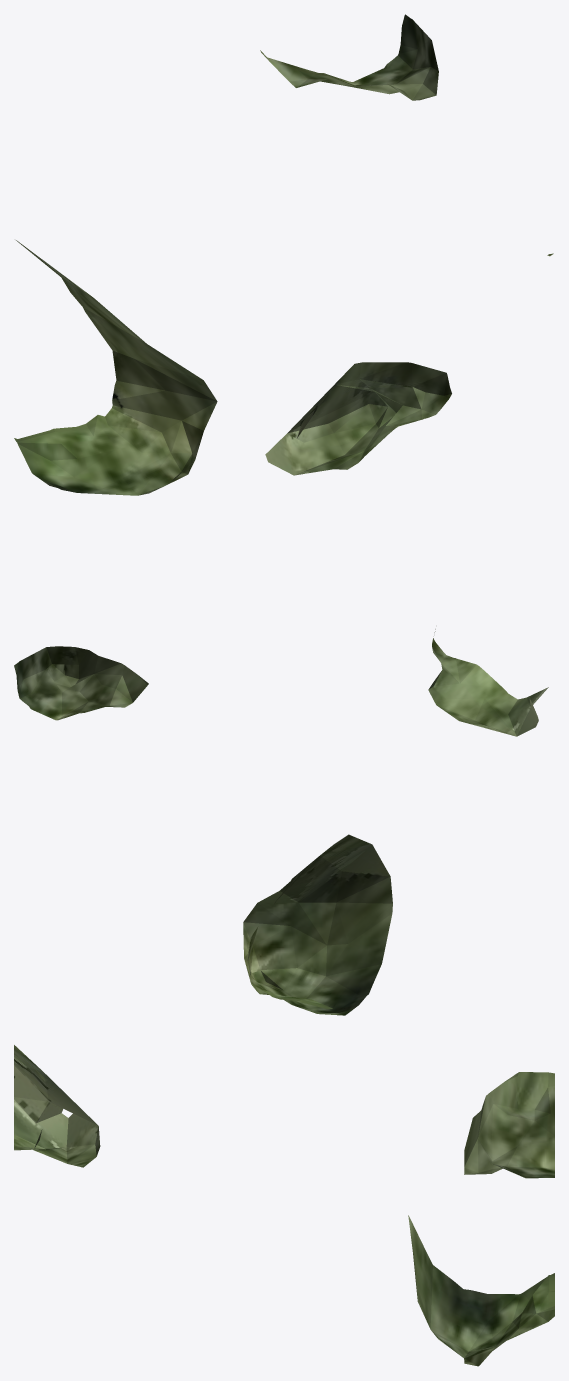
The picture shows the model from 3 angles, top to bottom: view 1: azimuth 30°, elevation 25°; view 2: azimuth 150°, elevation 25°; view 3: azimuth 270°, elevation 25°; orthographic projection. The views are drawn at different scales.
Bounding box in the file's own units: 2.36 × 2.14 × 2.95.
1 material, 1 textured.
